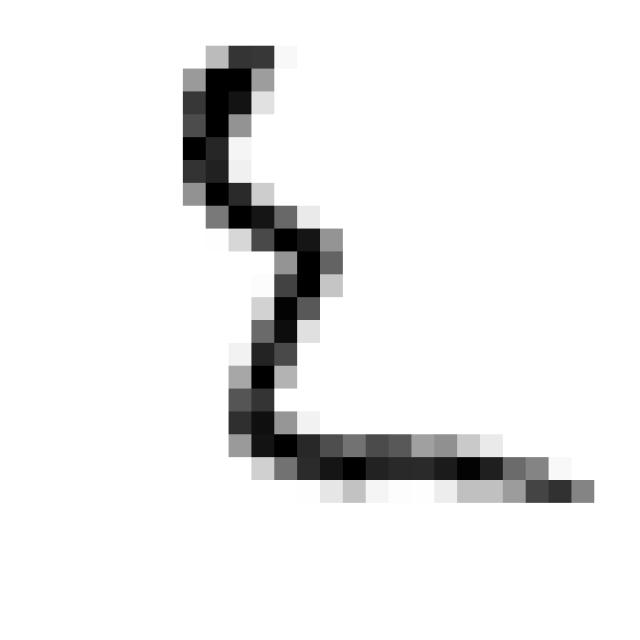4 -four-: (158, 21, 603, 520)
